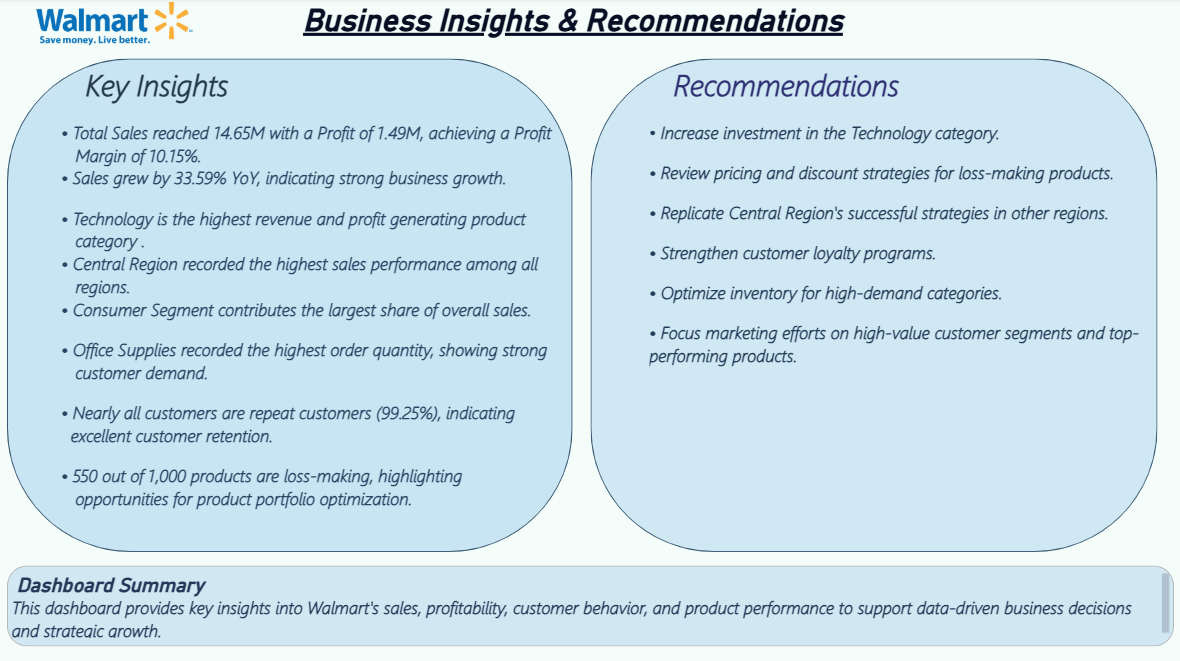

What the dashboard file says about the page in this screenshot:
{"tool":"powerbi","page":{"name":"Business Insights & Recommendations ","canvas":[1280,720],"ordinal":4},"visuals":[{"type":"textbox","box":[267.3,0,706.8,66.8],"z":0},{"type":"textbox","box":[698.3,66.7,553.3,493.3],"z":1000},{"type":"textbox","box":[10.1,617.7,1259.7,79],"z":2000},{"type":"shape","box":[9.7,613.7,1259.8,87.4],"z":3000},{"type":"textbox","box":[62.8,66.8,550.9,506.3],"z":4000},{"type":"shape","box":[639.6,66.4,612.1,532.7],"z":5000},{"type":"shape","box":[9.7,66.4,610.4,532.7],"z":6000},{"type":"image","box":[0,0,251,56.7],"z":7000}]}

Visuals, with their boxes in screenshot pixels (x1, y1, x2, y2), scaled from the page's 1280x720 canvas onto the 1180x661 screenshot:
textbox: bbox(246, 0, 898, 61)
textbox: bbox(644, 61, 1154, 514)
textbox: bbox(9, 567, 1171, 640)
shape: bbox(9, 563, 1170, 644)
textbox: bbox(58, 61, 566, 526)
shape: bbox(590, 61, 1154, 550)
shape: bbox(9, 61, 572, 550)
image: bbox(0, 0, 231, 52)
